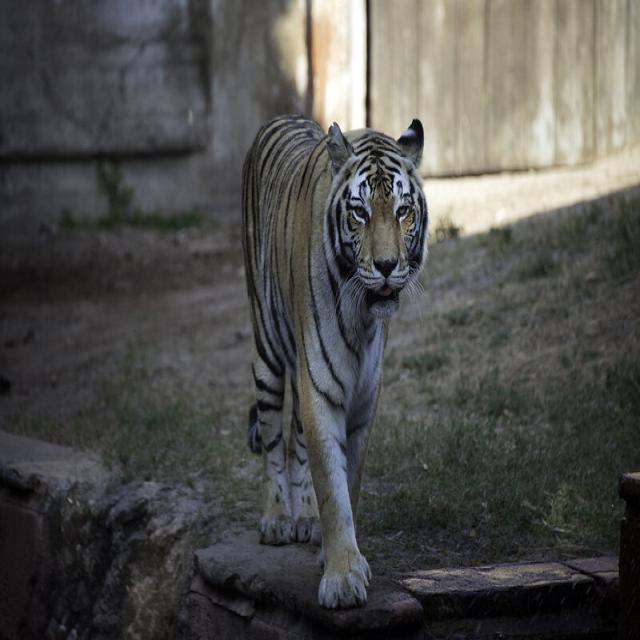Tiger: (232, 102, 438, 618)
